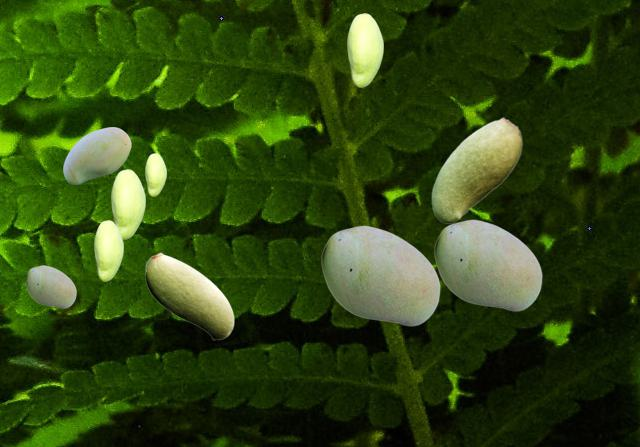green_mango: (321, 225, 439, 325), (434, 219, 541, 310), (431, 117, 521, 222), (145, 252, 233, 339), (63, 127, 130, 183), (347, 13, 382, 86), (111, 169, 144, 238), (25, 265, 75, 307), (94, 220, 122, 280), (145, 153, 165, 195)
